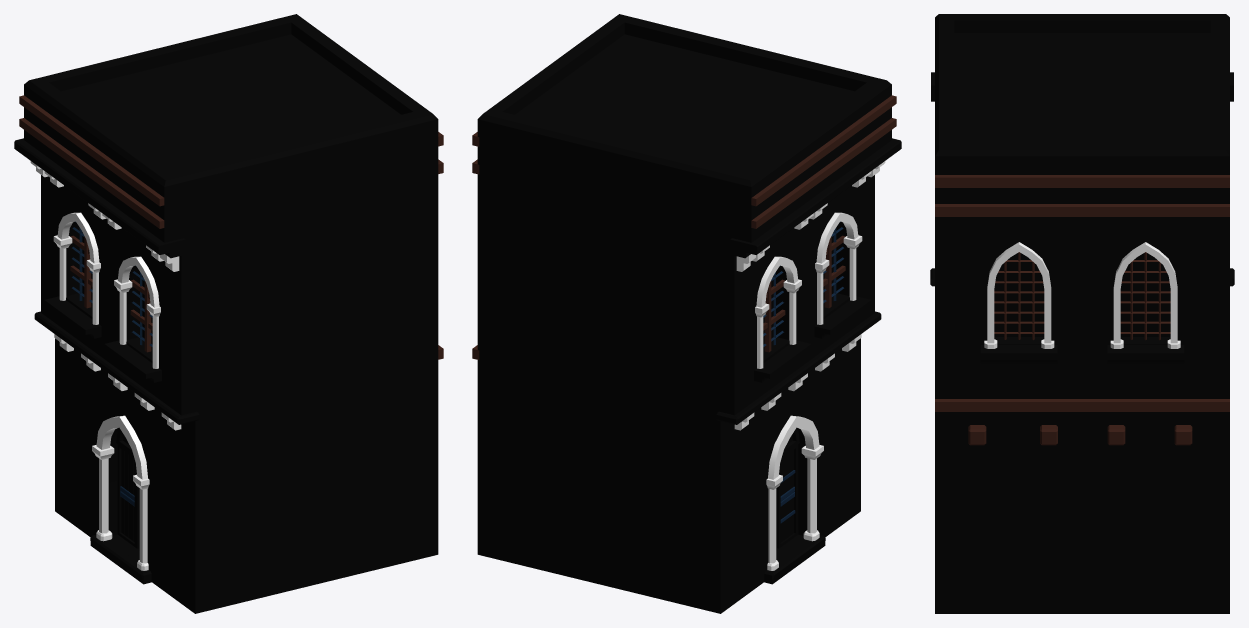
The model's file is civilian_house_29.FBX.
The picture shows the model from 3 angles, left to right: view 1: azimuth 30°, elevation 25°; view 2: azimuth 150°, elevation 25°; view 3: azimuth 270°, elevation 25°; orthographic projection. The views are drawn at different scales.
Parts seen in each view (by area): view 1: civilian_house_29; view 2: civilian_house_29; view 3: civilian_house_29.
Boxes of the visible parts, bbox=[...] form: civilian_house_29: bbox=[14, 14, 443, 613]; civilian_house_29: bbox=[472, 14, 901, 613]; civilian_house_29: bbox=[930, 14, 1234, 613].
Bounding box in the file's own units: 637 × 901 × 536.
